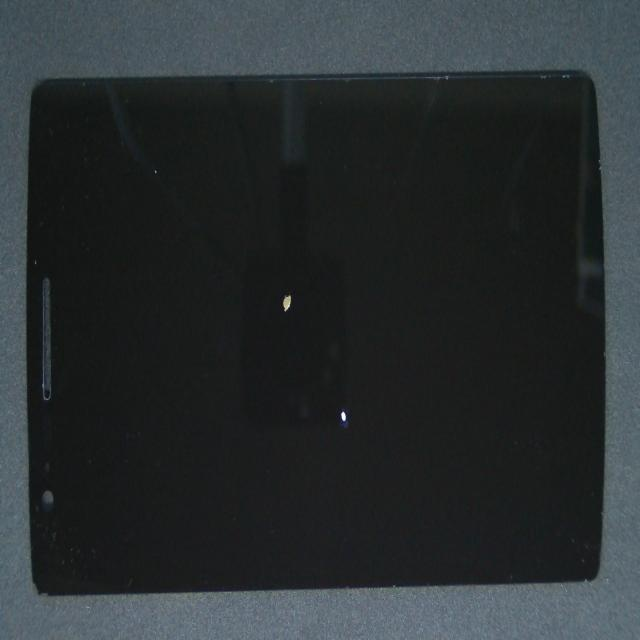stain: (151, 205, 507, 640), (99, 173, 432, 479)
